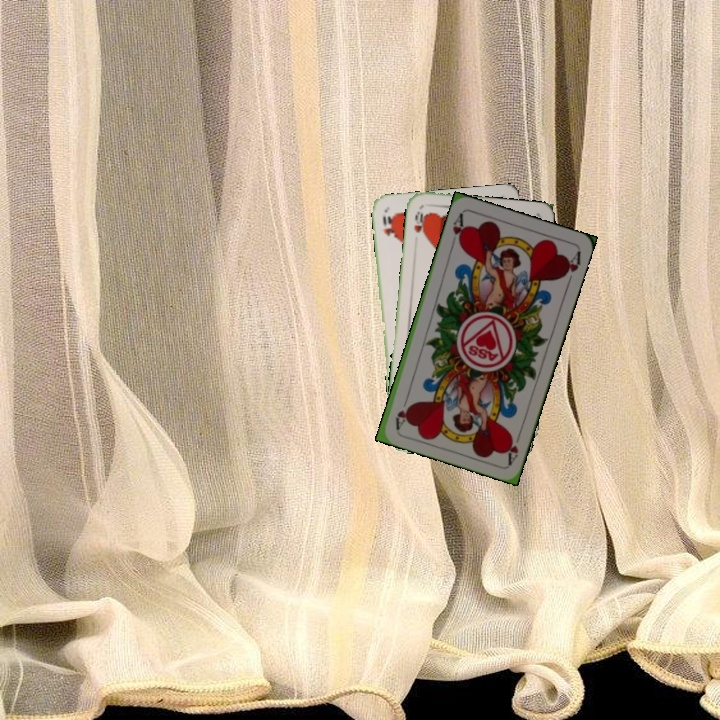HA: (448, 209, 468, 249), (502, 426, 522, 466)
HO: (410, 207, 428, 239), (379, 212, 396, 241)
